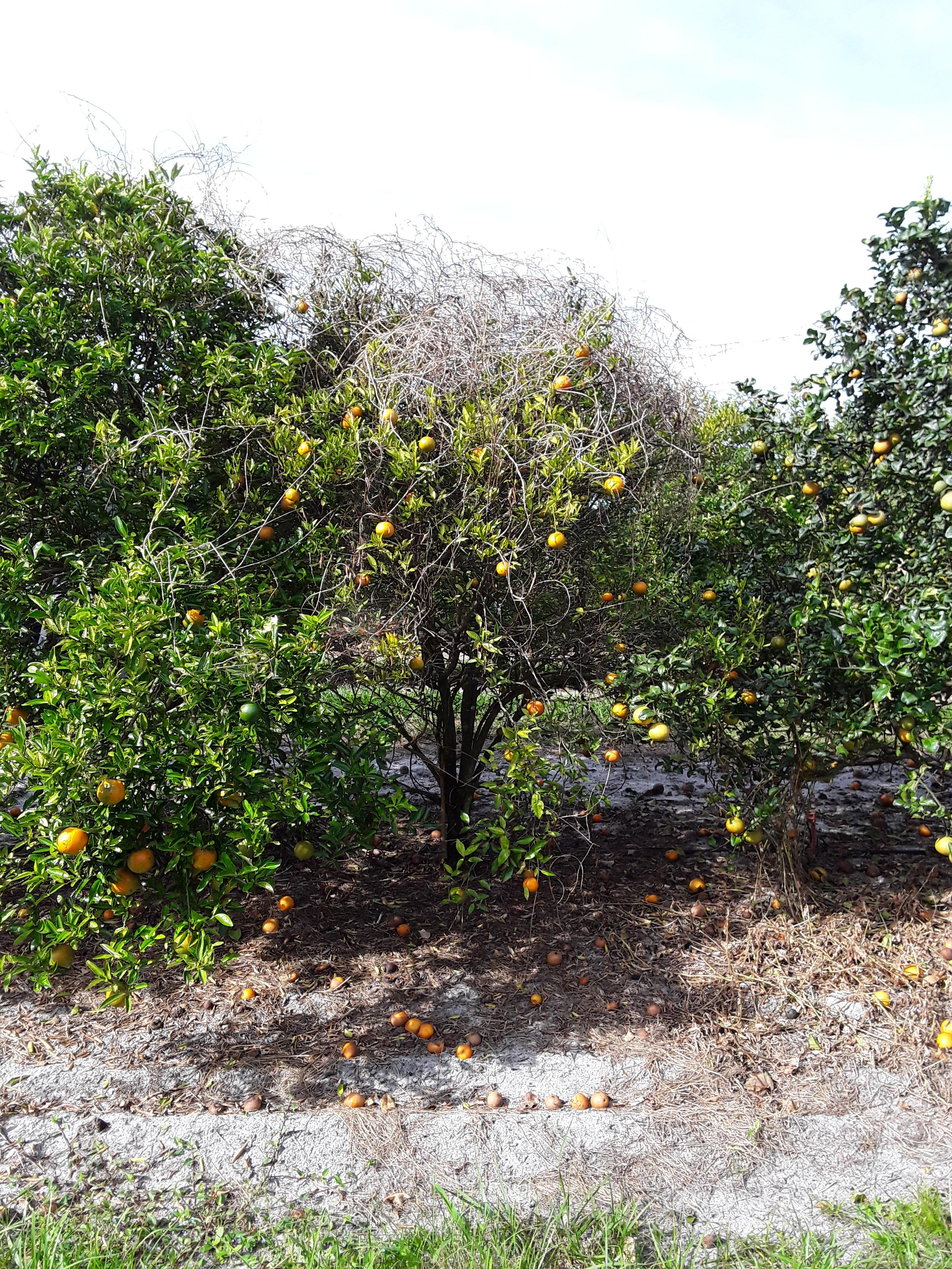fruit_on_ground: (53, 824, 89, 856), (107, 866, 140, 897), (95, 776, 126, 806), (215, 781, 246, 809), (48, 941, 77, 970), (190, 844, 220, 872), (102, 978, 131, 1006), (127, 846, 156, 873), (237, 699, 267, 725), (4, 703, 32, 730), (172, 930, 200, 956), (233, 837, 260, 862), (600, 472, 626, 497), (277, 485, 302, 510), (182, 605, 208, 629), (131, 818, 155, 843), (292, 838, 317, 862), (632, 703, 656, 727), (648, 720, 672, 744), (551, 371, 575, 393), (847, 512, 869, 536), (373, 517, 397, 539), (224, 471, 248, 493), (446, 884, 469, 906), (545, 528, 568, 550), (402, 486, 424, 508), (416, 432, 438, 454), (724, 813, 746, 835), (303, 634, 327, 654), (898, 714, 919, 735), (257, 523, 279, 543), (866, 507, 888, 527), (524, 697, 546, 717), (933, 834, 952, 857), (379, 406, 400, 426), (609, 699, 629, 720), (800, 479, 822, 498), (743, 824, 763, 844), (468, 444, 489, 463), (896, 726, 917, 745), (352, 570, 373, 589), (749, 437, 770, 456), (0, 728, 19, 748), (571, 342, 592, 360), (295, 437, 314, 456), (886, 428, 905, 447), (770, 631, 789, 650), (493, 558, 512, 577), (872, 437, 891, 456), (840, 736, 860, 754), (933, 478, 951, 498), (930, 322, 950, 340), (836, 575, 854, 594), (739, 688, 758, 706), (522, 874, 540, 893), (905, 266, 924, 284), (408, 654, 427, 672), (929, 313, 951, 328), (720, 710, 739, 727), (938, 491, 952, 514), (804, 565, 822, 582), (690, 469, 707, 487), (602, 669, 620, 686), (347, 401, 365, 418), (293, 297, 310, 315), (891, 288, 909, 305), (603, 746, 621, 763), (631, 578, 649, 595), (5, 803, 24, 819), (699, 587, 718, 603), (891, 329, 908, 346), (704, 655, 721, 671), (611, 639, 628, 655), (851, 330, 868, 346), (339, 414, 355, 431), (723, 667, 741, 682), (501, 746, 517, 762), (100, 905, 116, 921), (847, 365, 864, 380), (16, 905, 31, 921), (601, 588, 616, 602), (467, 575, 481, 589), (783, 455, 798, 468)
fruit_on_tree: (240, 1091, 264, 1112), (342, 1090, 366, 1111), (387, 1008, 410, 1028), (589, 1089, 610, 1110), (260, 915, 282, 935), (870, 988, 891, 1007), (340, 1040, 359, 1061), (276, 893, 295, 913), (569, 1090, 588, 1110), (700, 1231, 719, 1250), (688, 902, 707, 921), (487, 1089, 506, 1108), (835, 858, 855, 876), (809, 865, 829, 883), (417, 1020, 436, 1038), (455, 1042, 474, 1060), (403, 1019, 423, 1036), (902, 962, 922, 979), (543, 1093, 563, 1110), (688, 876, 707, 893), (935, 1030, 951, 1050), (426, 1038, 446, 1054), (782, 1005, 800, 1022), (546, 949, 564, 966), (386, 912, 405, 928), (864, 861, 881, 877), (239, 985, 256, 1001), (937, 944, 952, 962), (466, 1030, 482, 1046), (395, 921, 411, 937), (645, 1002, 662, 1017), (938, 1018, 952, 1036), (329, 974, 345, 989), (916, 824, 933, 838), (593, 935, 608, 950), (680, 780, 696, 794), (905, 755, 921, 769), (649, 781, 665, 795), (664, 847, 680, 861), (597, 869, 612, 883), (428, 827, 443, 841), (879, 792, 894, 806), (786, 825, 800, 839), (529, 991, 543, 1005), (560, 938, 575, 951), (383, 961, 398, 974), (576, 974, 590, 987), (851, 767, 866, 779), (645, 891, 660, 903), (590, 811, 604, 823), (770, 896, 782, 909), (828, 758, 841, 769), (682, 829, 695, 840), (606, 1000, 619, 1011), (849, 779, 862, 790), (600, 825, 612, 836), (697, 825, 708, 836)
